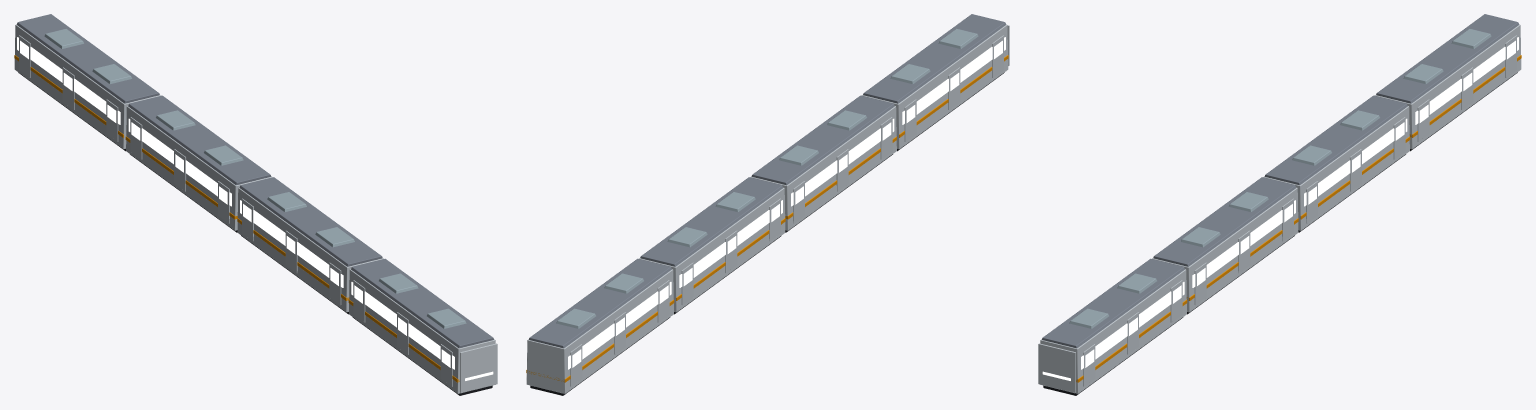
File: express_train.glb
3 views of the same model, side by side, from view 1: azimuth 30°, elevation 25°; view 2: azimuth 150°, elevation 25°; view 3: azimuth 330°, elevation 25° (orthographic).
Visible parts, largest first — view 1: express_train.001; view 2: express_train.001; view 3: express_train.001.
Boxes of the visible parts, box(x1,y1,x2,y2) form: express_train.001: box(14, 14, 497, 395); express_train.001: box(526, 14, 1009, 395); express_train.001: box(1038, 14, 1521, 395).
Size of the model in its own units: 2.74 by 3.44 by 51.99.
